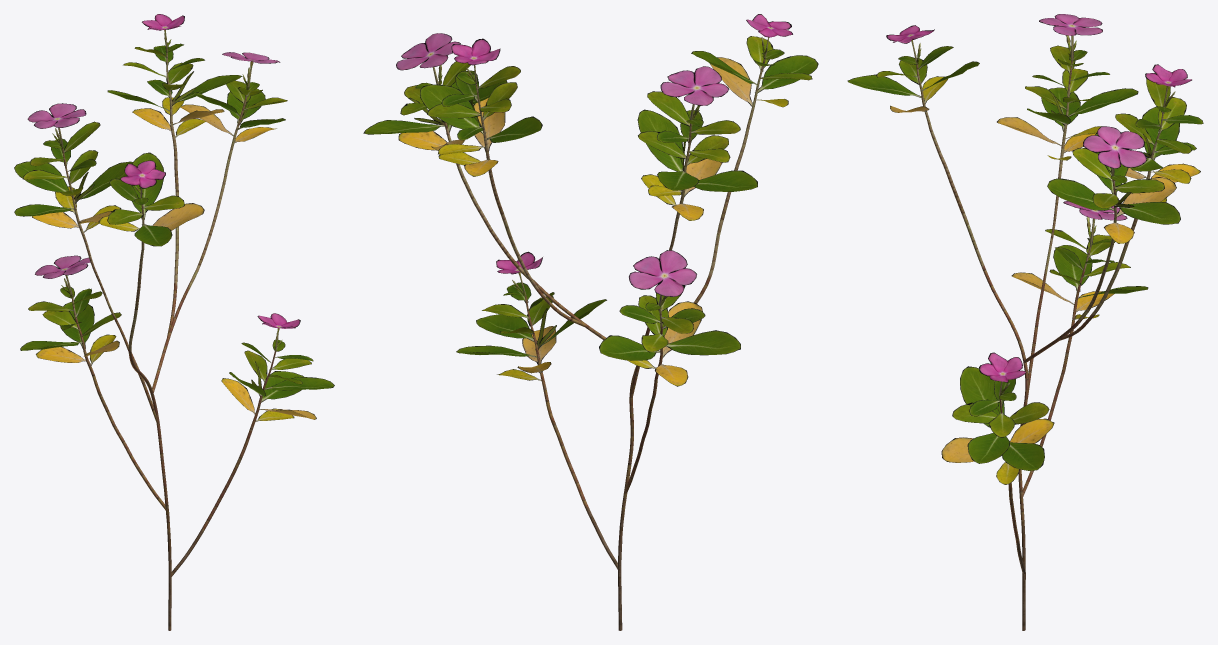
The model's file is ph-periwinkle-plant.glb.
The picture shows the model from 3 angles, left to right: view 1: azimuth 30°, elevation 25°; view 2: azimuth 150°, elevation 25°; view 3: azimuth 270°, elevation 25°; orthographic projection. The views are drawn at different scales.
Parts seen in each view (by area): view 1: periwinkle_plant_02_LOD0; view 2: periwinkle_plant_02_LOD0; view 3: periwinkle_plant_02_LOD0.
Boxes of the visible parts, x1,y1,x2,y2 form: periwinkle_plant_02_LOD0: (14, 14, 334, 630); periwinkle_plant_02_LOD0: (363, 14, 818, 630); periwinkle_plant_02_LOD0: (847, 14, 1203, 630).
Size of the model in its own units: 0.2312 by 0.4107 by 0.2248.
Materials: 1 (1 with a texture image).
